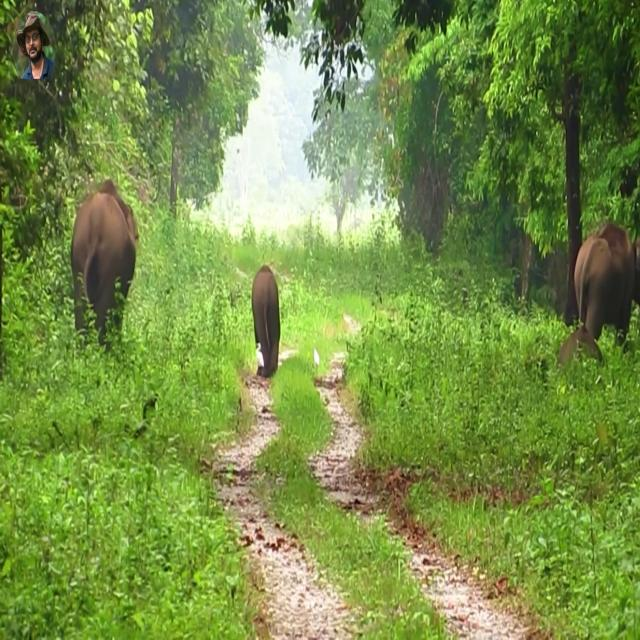Elephant: (70, 178, 139, 351), (251, 264, 280, 377)
person: (16, 10, 54, 80)
